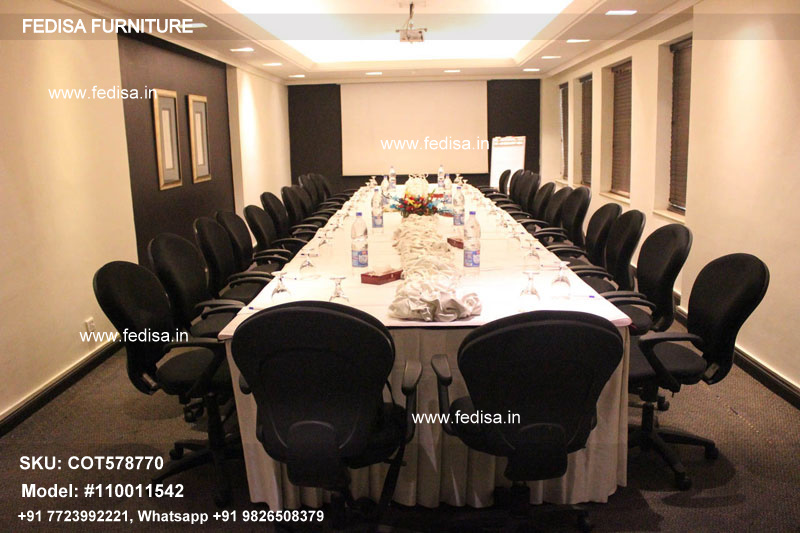conference_table: (219, 179, 629, 516)
